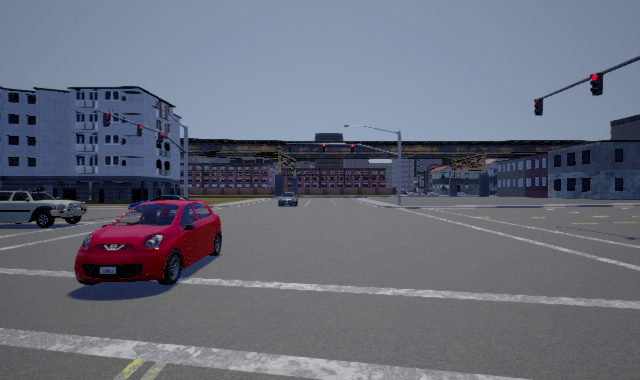traffic_light: (590, 72, 603, 96), (534, 98, 543, 116), (103, 113, 111, 127), (137, 124, 143, 137), (158, 132, 164, 143), (351, 144, 354, 153), (322, 144, 325, 152), (289, 144, 291, 152)
vehicle: (74, 198, 221, 285), (1, 191, 87, 228), (128, 194, 202, 215), (278, 192, 298, 207)
